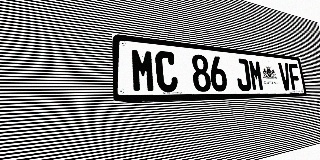6: (209, 55, 228, 91)
8: (191, 54, 212, 92)
C: (155, 50, 178, 92)
F: (288, 63, 301, 90)
J: (234, 58, 252, 91)
M: (130, 48, 156, 93), (248, 59, 264, 91)
V: (278, 62, 292, 90)
